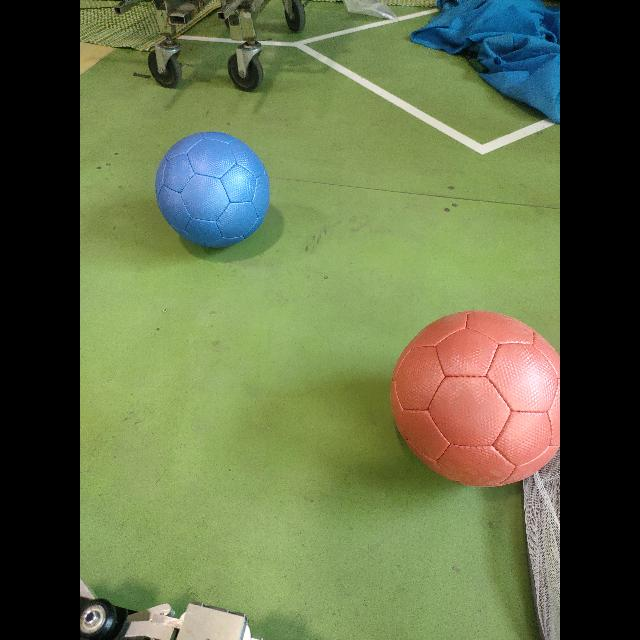B: (155, 132, 270, 248)
R: (391, 311, 558, 486)
